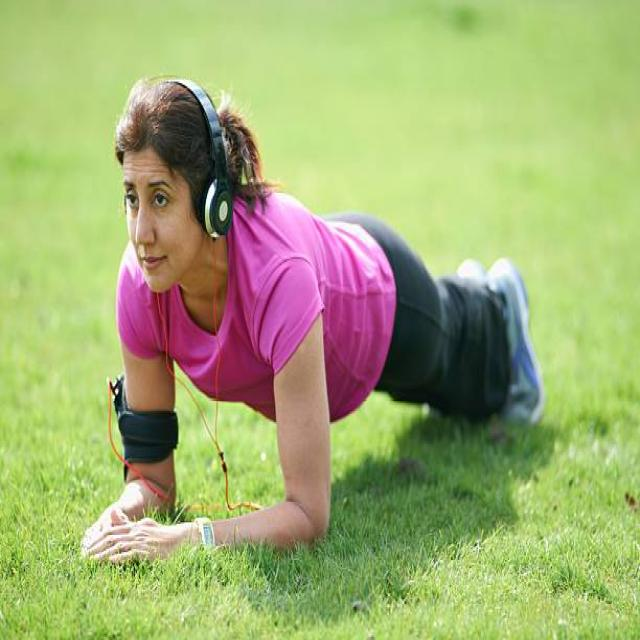Headphone: (165, 76, 235, 238)
